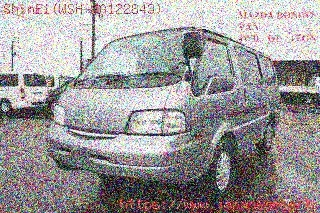van: (47, 26, 283, 183)
